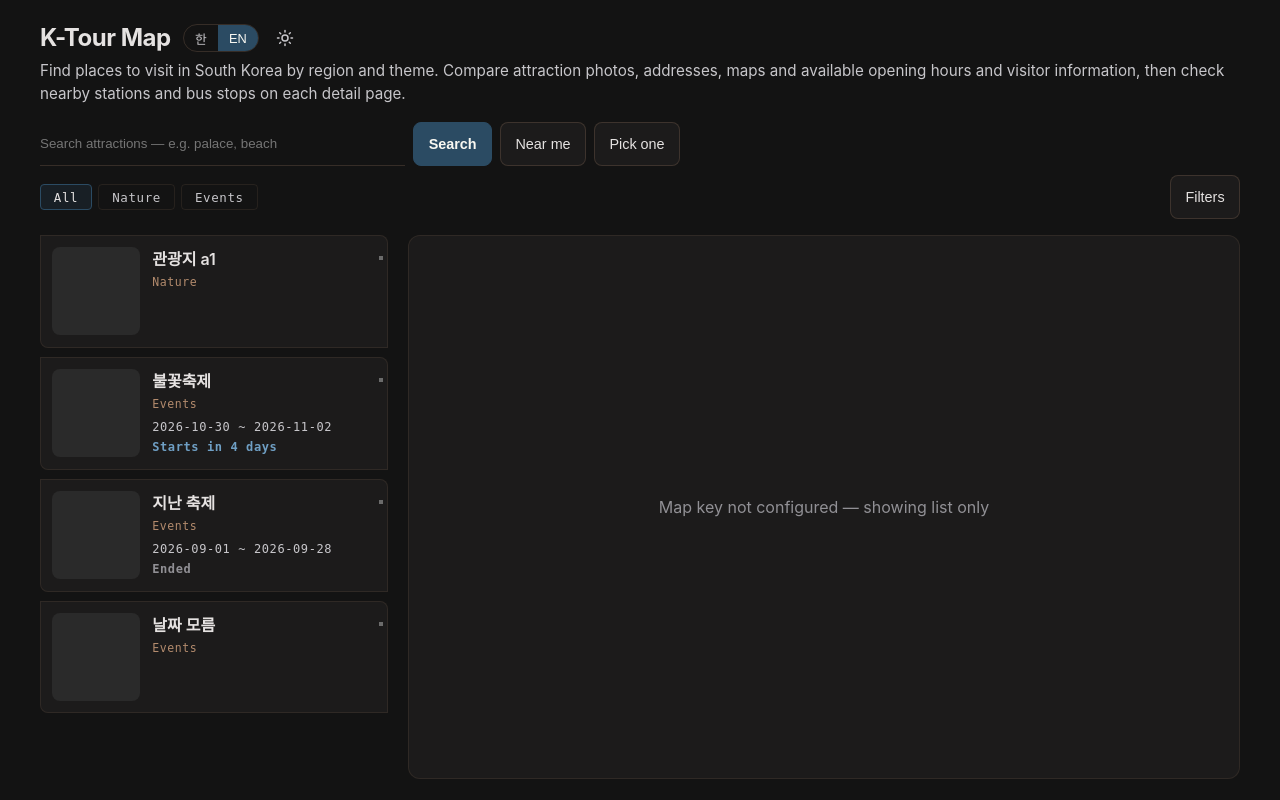
PlacePage 행사·여행코스·숙박 › 모바일 바텀시트 본문에도 같은 기간·상태 줄을 그린다(영문 문구)
The width and height of the screenshot is (1280, 800).
Click the heading "불꽃축제" at (182, 381), box [152,371,211,391]
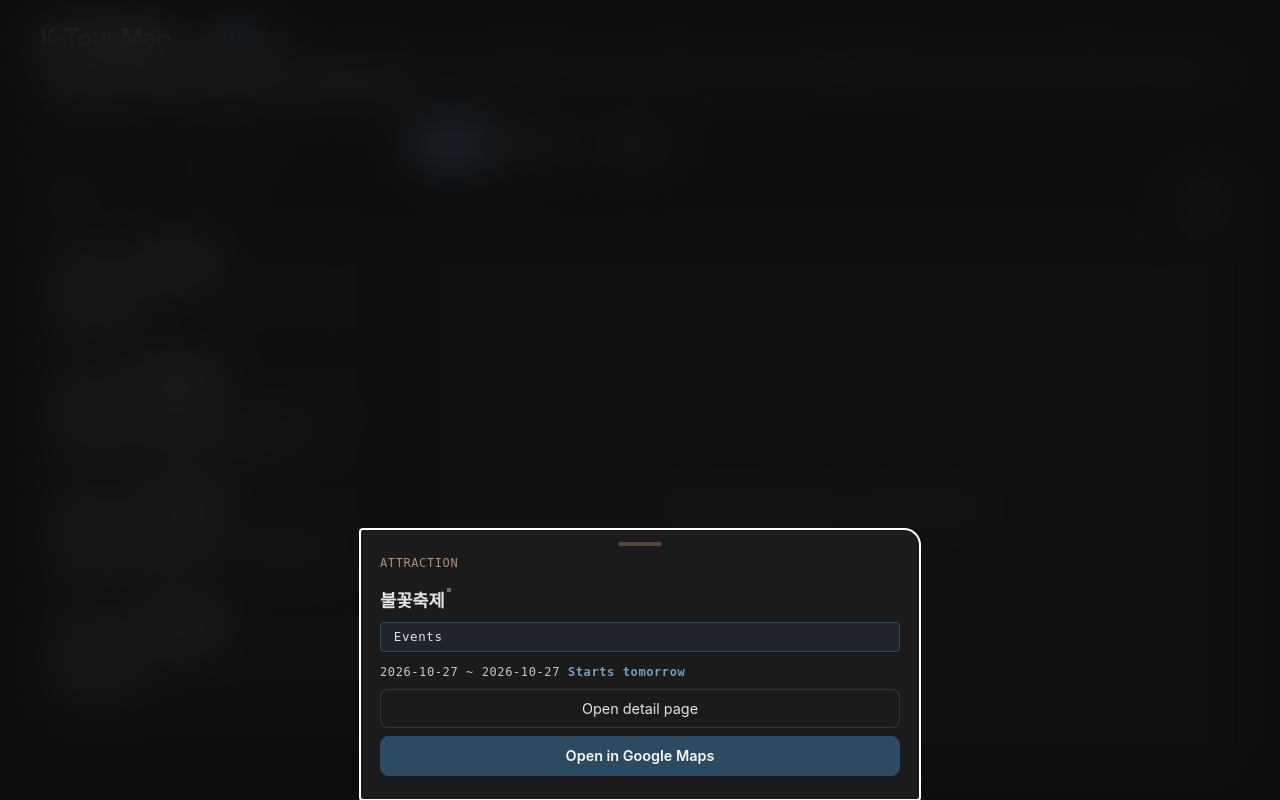
Check: the text "Starts tomorrow" is shown, box [568,663,685,681]
Check: the text "2026-10-27 ~ 2026-10-27" is shown, box [380,663,560,681]
